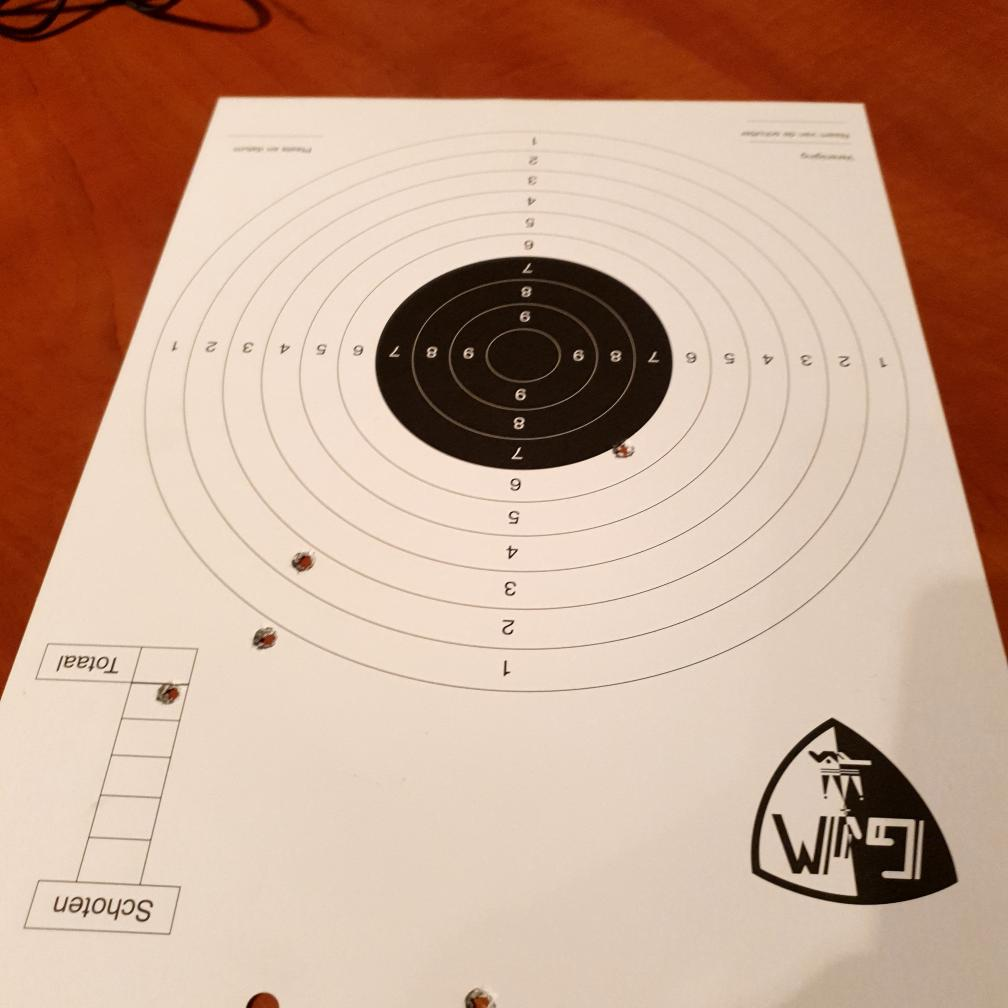0: (460, 983, 498, 1008), (250, 624, 279, 652), (154, 681, 180, 704)
2: (288, 546, 318, 574)
7: (610, 438, 636, 460)
Target: (145, 127, 913, 693)
black_contour: (377, 258, 673, 471)
